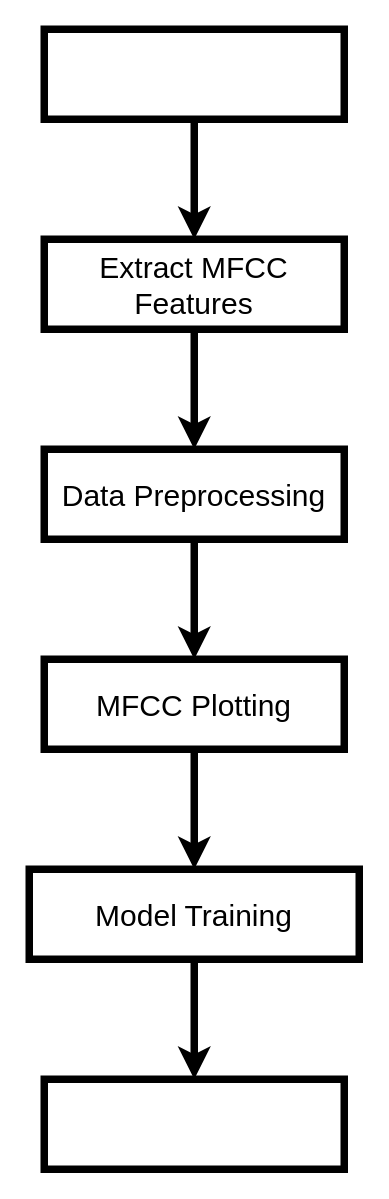
Some shapes in this 389 by 1199 pixel diagram are drawn without their labels. Each missing label, with the centre of its shape:
Load audio dataset: pixel 193 73
Model evaluation: pixel 193 1123
